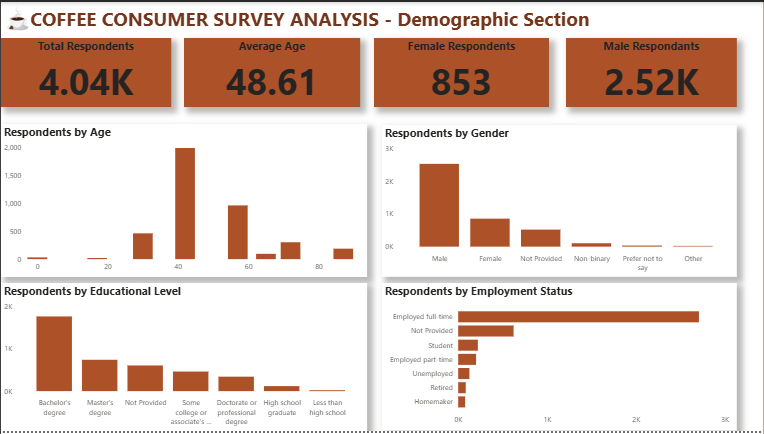

Layout of this report page (visuals, bound fields, positions):
{"tool":"powerbi","page":{"name":"Page 1","canvas":[1280,720],"ordinal":0},"visuals":[{"type":"card","title":"Total Respondents","fields":{"Values":["CountNonNull(Main Survey.Respondent ID)"]},"box":[0,60.5,285.6,115.9],"z":0},{"type":"textbox","box":[0,0,1202.7,60.5],"z":1000},{"type":"card","title":"Average Age","fields":{"Values":["Avg(Main Survey.Average Age)"]},"box":[307.4,60.5,295.6,115.9],"z":2000},{"type":"card","title":"Female Respondents","fields":{"Values":["CountNonNull(Main Survey.Gender)"]},"box":[626.6,60.5,294,115.9],"z":3000},{"type":"card","title":"Male Respondants","fields":{"Values":["CountNonNull(Main Survey.Gender)"]},"box":[949.1,60.5,287.2,115.9],"z":4000},{"type":"clusteredColumnChart","title":"Respondents by Age","fields":{"Category":["Main Survey.Average Age"],"Y":["CountNonNull(Main Survey.Respondent ID)"]},"box":[0,204.9,614.8,257],"z":5000},{"type":"columnChart","title":"Respondents by Gender","fields":{"Category":["Main Survey.Gender"],"Y":["CountNonNull(Main Survey.Respondent ID)"]},"box":[640,206.6,596.3,255.3],"z":6000},{"type":"columnChart","title":"Respondents by Educational Level","fields":{"Category":["Main Survey.Education Level"],"Y":["CountNonNull(Main Survey.Respondent ID)"]},"box":[0,472,614.8,248.6],"z":7000},{"type":"barChart","title":"Respondents by Employment Status","fields":{"Category":["Main Survey.Employment Status"],"Y":["CountNonNull(Main Survey.Respondent ID)"]},"box":[640,472,596,248],"z":8000},{"type":"image","box":[0,0,55.4,57.1],"z":9000}]}

Visuals, with their boxes in screenshot pixels (x1, y1, x2, y2), scaled from the page's 1280x720 canvas onto the 764x434 screenshot:
"Total Respondents" card: x1=0 y1=36 x2=170 y2=106
textbox: x1=0 y1=0 x2=718 y2=36
"Average Age" card: x1=183 y1=36 x2=360 y2=106
"Female Respondents" card: x1=374 y1=36 x2=549 y2=106
"Male Respondants" card: x1=566 y1=36 x2=738 y2=106
"Respondents by Age" clusteredColumnChart: x1=0 y1=124 x2=367 y2=278
"Respondents by Gender" columnChart: x1=382 y1=125 x2=738 y2=278
"Respondents by Educational Level" columnChart: x1=0 y1=285 x2=367 y2=433
"Respondents by Employment Status" barChart: x1=382 y1=285 x2=738 y2=433
image: x1=0 y1=0 x2=33 y2=34
